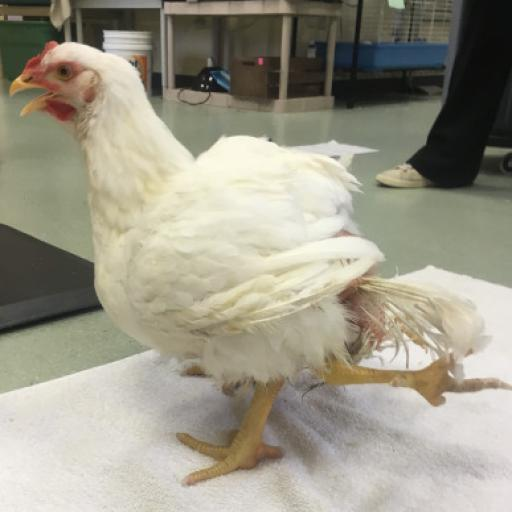disease: (39, 40, 117, 114)
